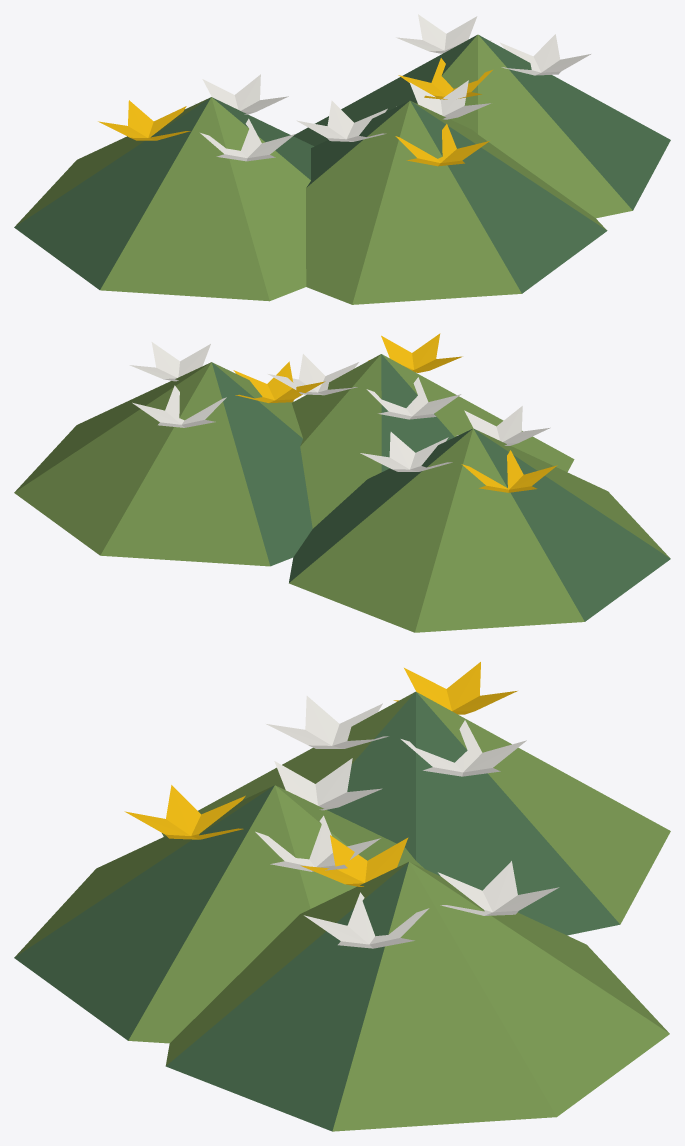
Rendered from GREEN_FLOWERS_01.glb.
3 views of the same model, one above another, from view 1: azimuth 30°, elevation 25°; view 2: azimuth 150°, elevation 25°; view 3: azimuth 270°, elevation 25° (orthographic). The views are drawn at different scales.
Visible parts, largest first — view 1: CIVRUM_GAME_GREEN_FLOWERS_01; view 2: CIVRUM_GAME_GREEN_FLOWERS_01; view 3: CIVRUM_GAME_GREEN_FLOWERS_01.
Part boxes in pixels (x1,y1,x2,y2): CIVRUM_GAME_GREEN_FLOWERS_01: [14, 14, 670, 304]; CIVRUM_GAME_GREEN_FLOWERS_01: [14, 333, 670, 632]; CIVRUM_GAME_GREEN_FLOWERS_01: [14, 662, 670, 1131].
Size of the model in its own units: 1.32 by 0.27 by 0.979.
